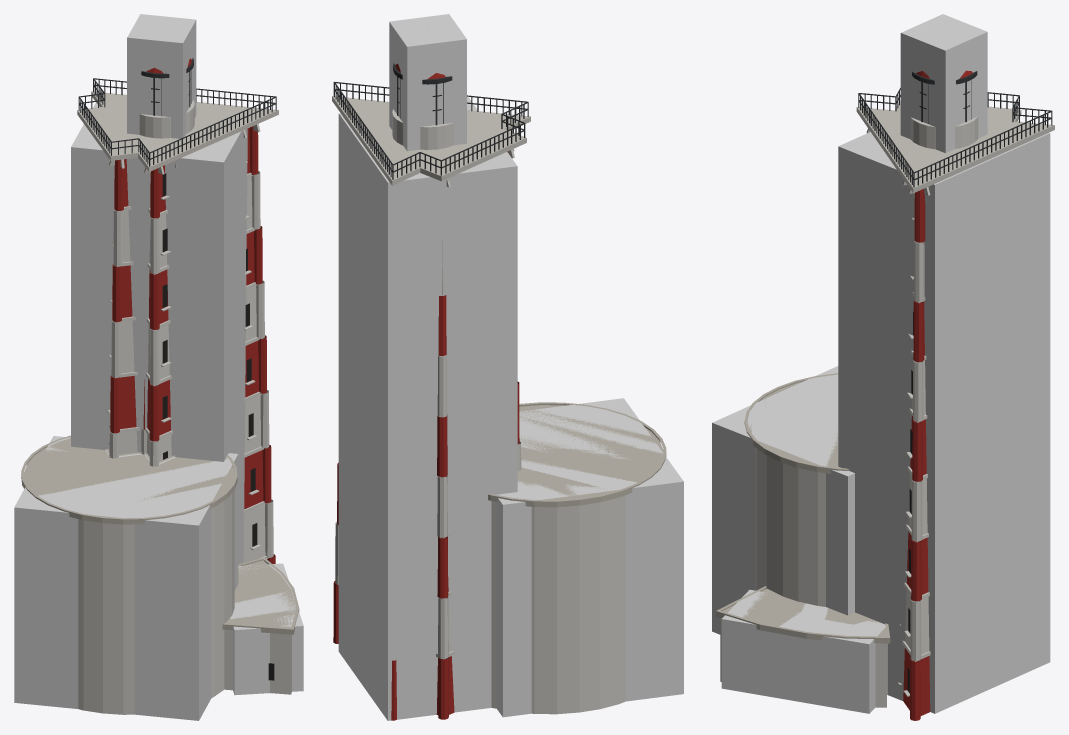
Rendered from chennai-lighthouse.glb.
3 views of the same model, side by side, from view 1: azimuth 30°, elevation 25°; view 2: azimuth 150°, elevation 25°; view 3: azimuth 270°, elevation 25° (orthographic). The views are drawn at different scales.
Visible parts, largest first — view 1: LOD0, COL_02, COL_00, COL_03, COL_01; view 2: COL_02, LOD0, COL_00, COL_03; view 3: COL_02, LOD0, COL_00, COL_01, COL_03.
Part boxes in pixels (x1,y1,x2,y2): LOD0: (21, 58, 299, 714); COL_02: (71, 102, 247, 564); COL_00: (14, 436, 238, 720); COL_03: (127, 14, 196, 138); COL_01: (230, 563, 303, 695); COL_02: (338, 97, 517, 720); LOD0: (332, 63, 666, 720); COL_00: (496, 398, 683, 717); COL_03: (389, 14, 466, 151); COL_02: (838, 120, 1050, 713); LOD0: (716, 70, 1054, 720); COL_00: (712, 366, 854, 634); COL_01: (721, 589, 887, 713); COL_03: (900, 14, 987, 152).
Size of what is drawn, in the model's own units: 23.64 by 45.72 by 22.31.
